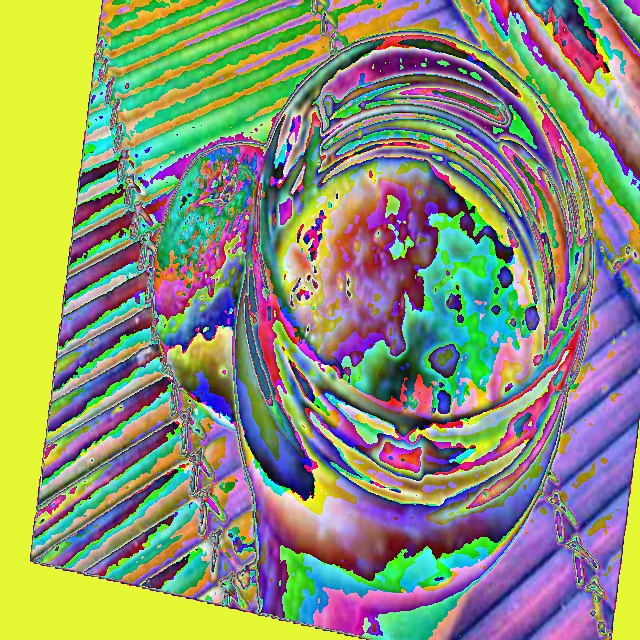background: (153, 139, 562, 639)
